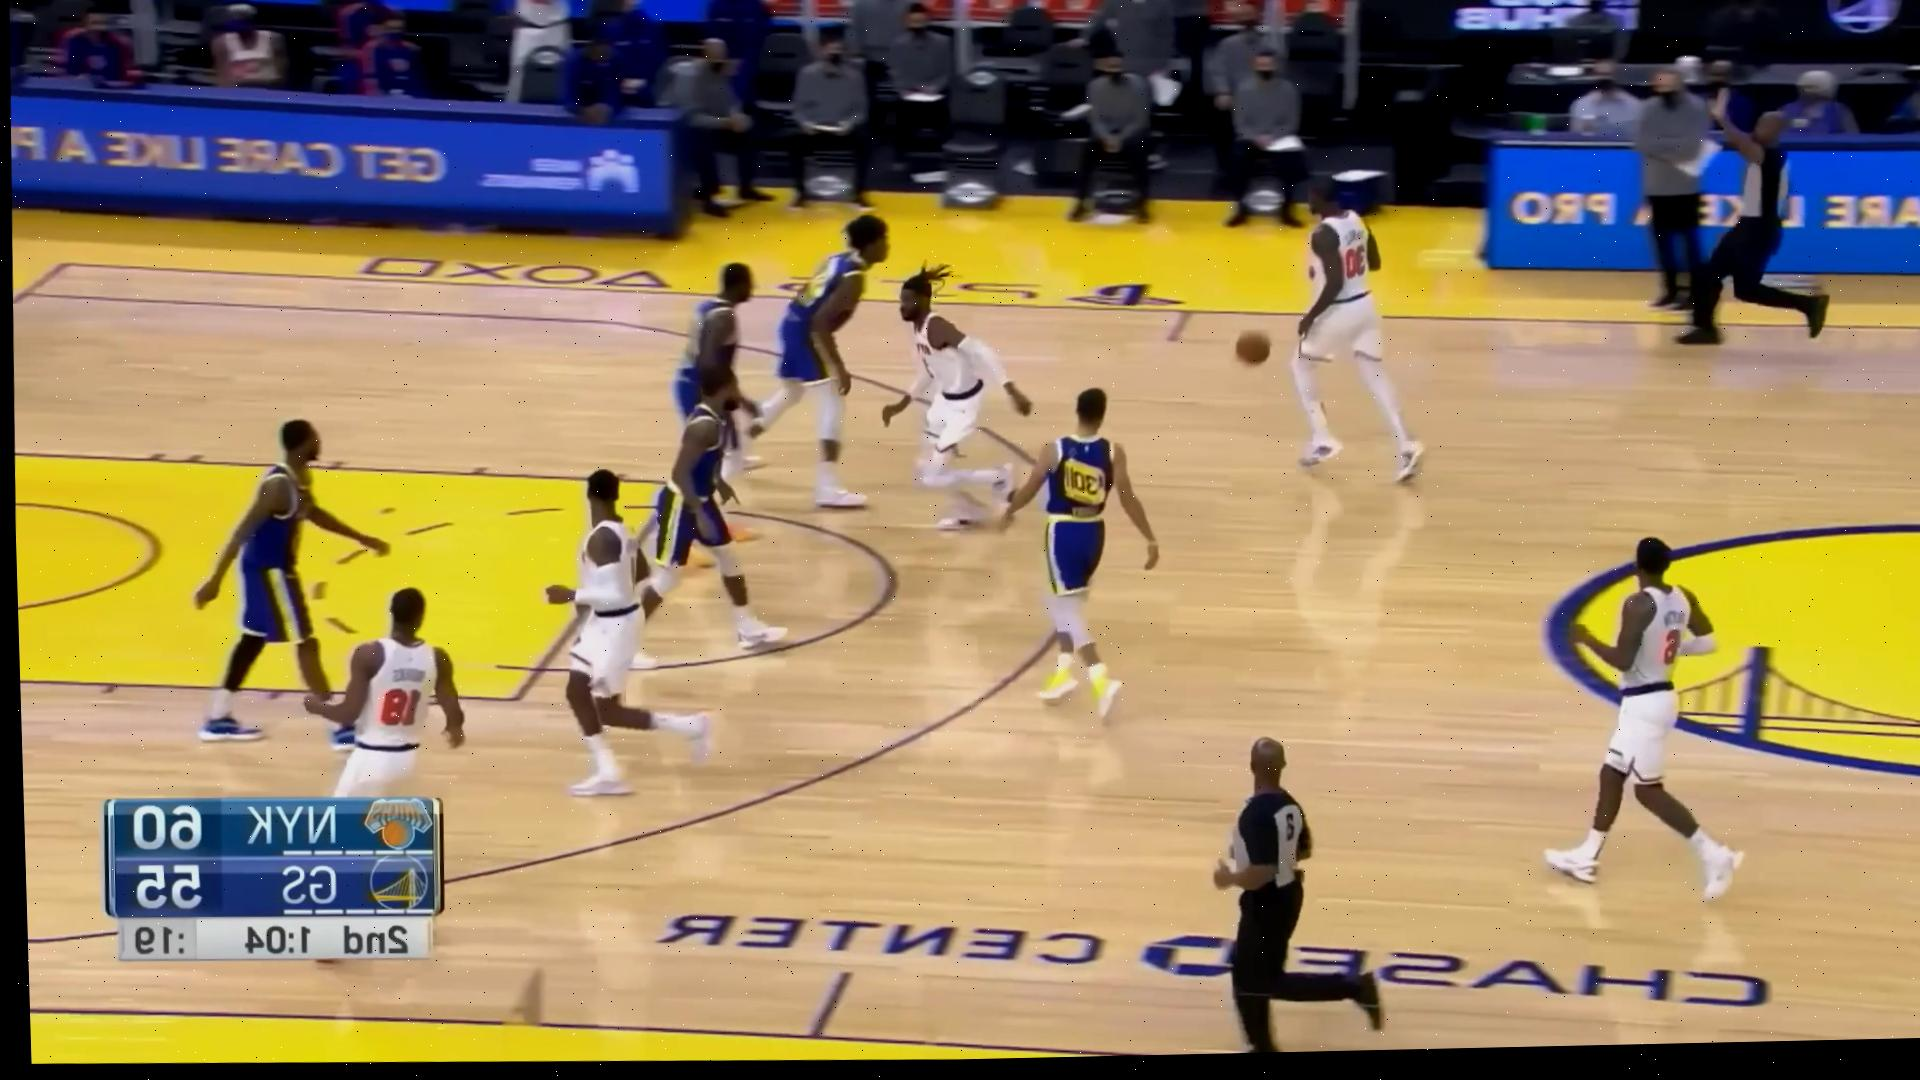no_foul: (1221, 171, 1439, 497)
